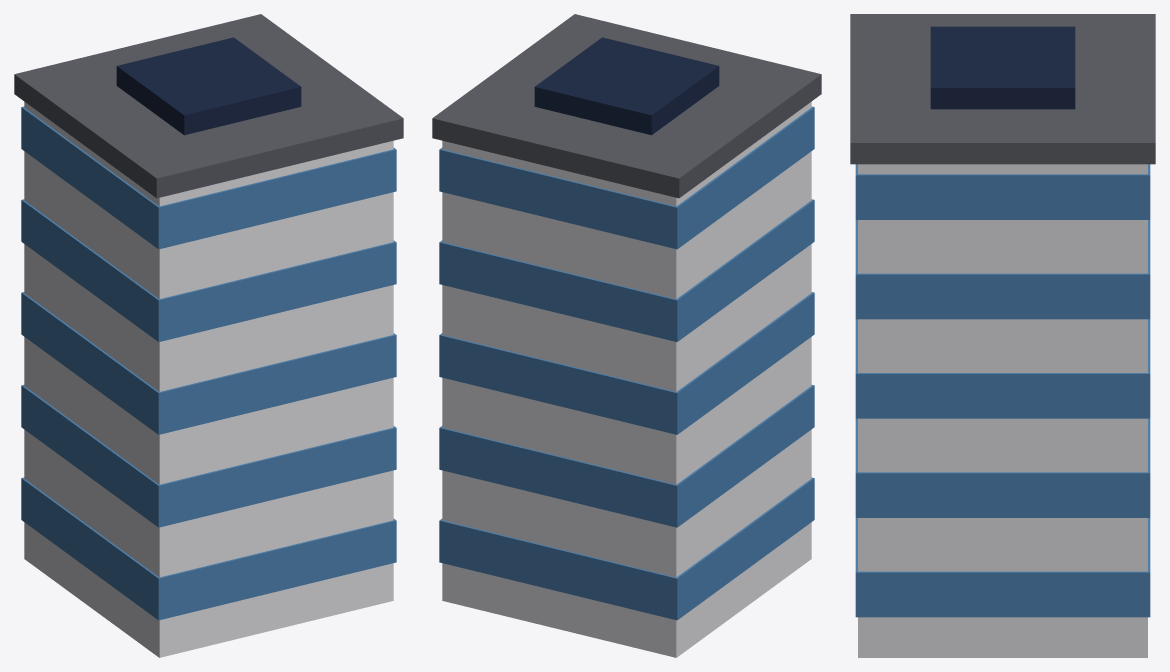
File: block_2012.glb
3 views of the same model, side by side, from view 1: azimuth 30°, elevation 25°; view 2: azimuth 150°, elevation 25°; view 3: azimuth 270°, elevation 25° (orthographic). The views are drawn at different scales.
Parts seen in each view (by area): view 1: Body, Roof, Body_win_f3, Body_win_f0, Body_win_f2, Body_win_f4, Body_win_f1, Trim; view 2: Body, Roof, Body_win_f3, Body_win_f0, Body_win_f2, Body_win_f4, Body_win_f1, Trim; view 3: Body, Roof, Body_win_f0, Body_win_f3, Body_win_f2, Body_win_f1, Body_win_f4, Trim.
Part boxes in pixels (<box>): Body: <box>24,102,393,657</box>; Roof: <box>14,14,403,198</box>; Body_win_f3: <box>21,199,396,341</box>; Body_win_f0: <box>21,477,396,620</box>; Body_win_f2: <box>21,292,396,434</box>; Body_win_f4: <box>21,106,396,249</box>; Body_win_f1: <box>21,385,396,527</box>; Trim: <box>116,37,301,135</box>; Body: <box>442,102,811,657</box>; Roof: <box>432,14,821,198</box>; Body_win_f3: <box>439,199,814,341</box>; Body_win_f0: <box>439,477,814,620</box>; Body_win_f2: <box>439,292,814,434</box>; Body_win_f4: <box>439,106,814,249</box>; Body_win_f1: <box>439,385,814,527</box>; Trim: <box>534,37,719,135</box>; Body: <box>858,164,1147,657</box>; Roof: <box>850,14,1155,164</box>; Body_win_f0: <box>855,518,1150,617</box>; Body_win_f3: <box>855,220,1150,319</box>; Body_win_f2: <box>855,319,1150,418</box>; Body_win_f1: <box>855,418,1150,517</box>; Body_win_f4: <box>855,164,1150,219</box>; Trim: <box>930,26,1075,109</box>.
Bounding box in the file's own units: 0.78 × 1.52 × 0.78.
